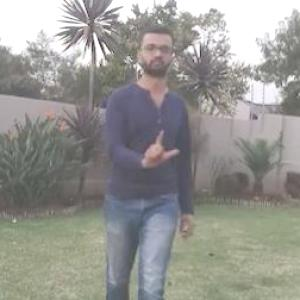land_hand: (138, 124, 181, 171)
